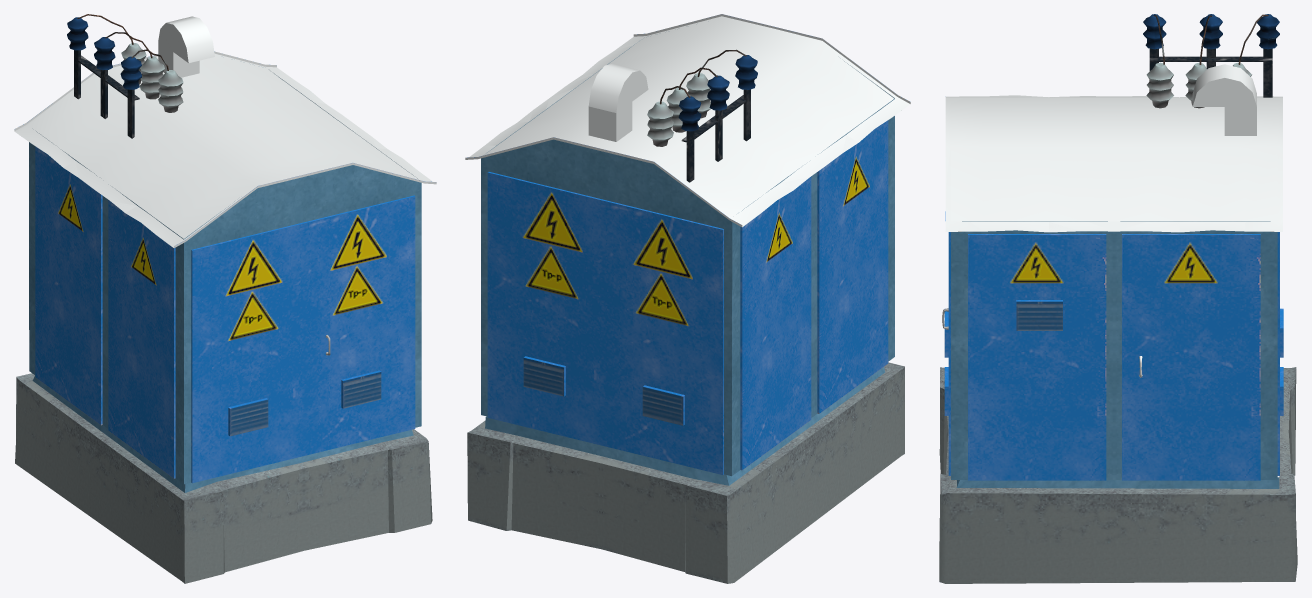
File: transformer_station.gltf
3 views of the same model, side by side, from view 1: azimuth 30°, elevation 25°; view 2: azimuth 150°, elevation 25°; view 3: azimuth 270°, elevation 25° (orthographic). The views are drawn at different scales.
Visible parts, largest first — view 1: Transformator; view 2: Transformator; view 3: Transformator.
Boxes of the visible parts, bbox=[...] form: Transformator: bbox=[14, 14, 436, 583]; Transformator: bbox=[465, 14, 910, 583]; Transformator: bbox=[939, 14, 1297, 583].
Bounding box in the file's own units: 2.49 × 4.02 × 2.78.
Materials: 1 (1 with a texture image).
